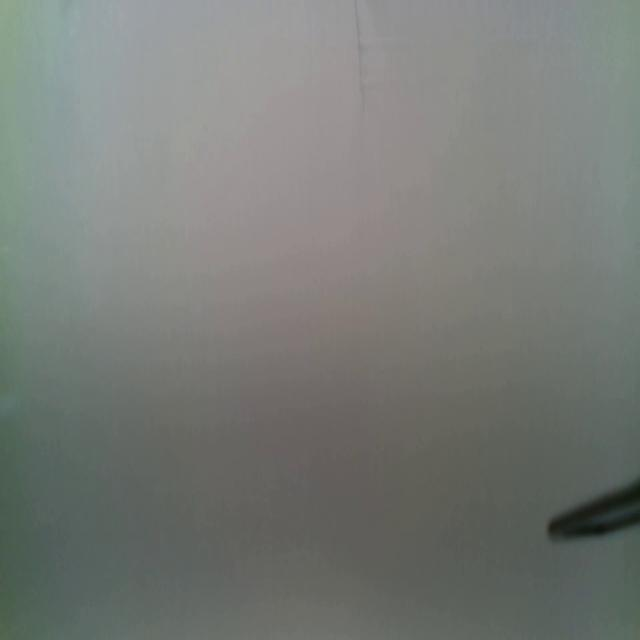crease: (354, 0, 369, 113)
